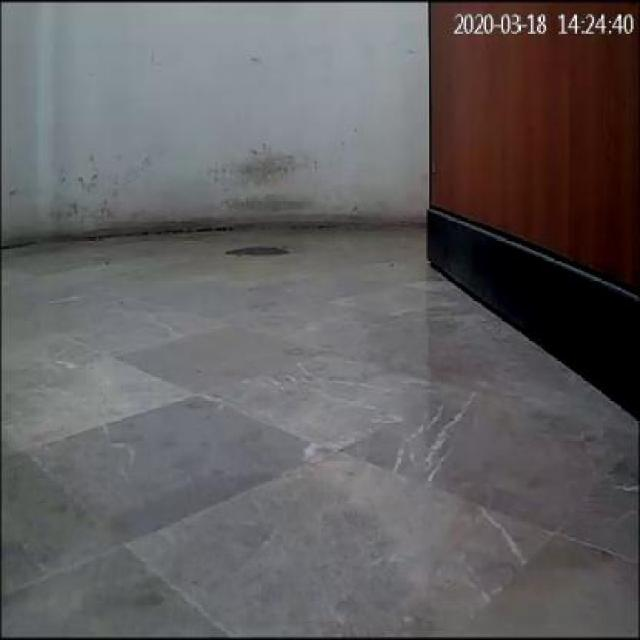spill: (223, 240, 291, 266)
